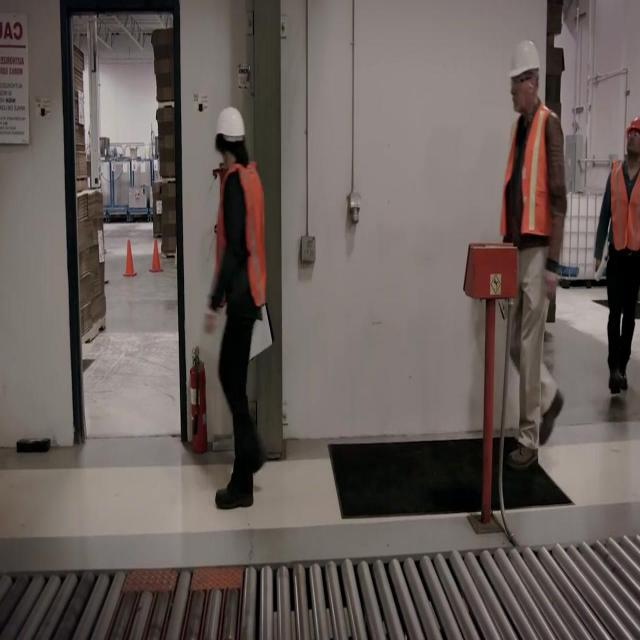Reflective-Jacket: (492, 103, 572, 270), (208, 162, 274, 330), (597, 155, 640, 278)
Safety-Helmet: (501, 28, 546, 92), (211, 100, 249, 154), (620, 108, 640, 148)
